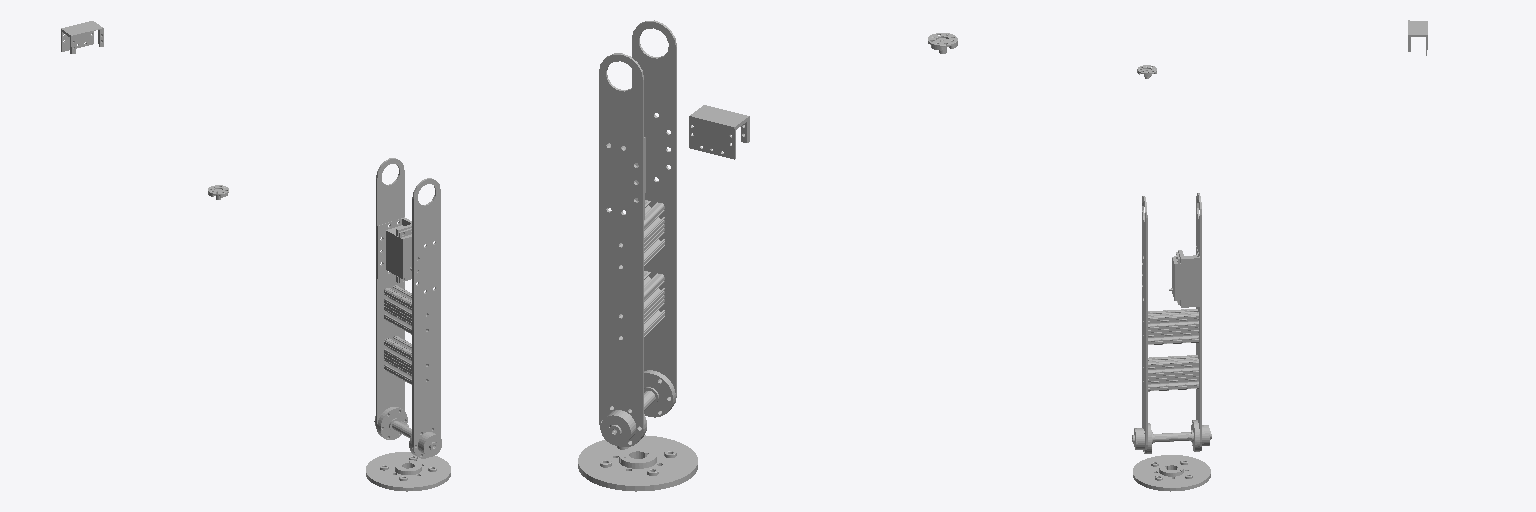
The robot description file, URDF, robot "arm_urdf_2":
<?xml version="1.0" encoding="utf-8"?>
<!-- This URDF was automatically created by SolidWorks to URDF Exporter! Originally created by [author] ([email redacted]) 
     Commit Version: 1.6.0-4-g7f85cfe  Build Version: 1.6.7995.38578
     For more information, please see http://wiki.ros.org/sw_urdf_exporter -->
<robot
  name="arm_urdf_2">

  <link name="world"/>

  <link
    name="base_link">
    <inertial>
      <origin
        xyz="-0.00066697 -7.2955E-05 0.11391"
        rpy="0 0 0" />
      <mass
        value="1.2708" />
      <inertia
        ixx="0.0025837"
        ixy="-1.2489E-07"
        ixz="-3.2925E-07"
        iyy="0.0025874"
        iyz="-4.1069E-08"
        izz="0.0043243" />
    </inertial>
    <visual>
      <origin
        xyz="0 0 0"
        rpy="0 0 0" />
      <geometry>
        <mesh
          filename="package://arm_urdf_2/meshes/base_link.STL" />
      </geometry>
      <material
        name="">
        <color
          rgba="0.75294 0.75294 0.75294 1" />
      </material>
    </visual>
    <collision>
      <origin
        xyz="0 0 0"
        rpy="0 0 0" />
      <geometry>
        <mesh
          filename="package://arm_urdf_2/meshes/base_link.STL" />
      </geometry>
    </collision>
  </link>

  <joint name="base_joint" type="fixed">
  	<parent link="world"/>
  	<child link="base_link"/>
  	<origin rpy="0 0 0" xyz="0.0 0.0 0.25"/>
  </joint>

  <link
    name="link_1">
    <inertial>
      <origin
        xyz="-1.3692E-05 -1.7969E-05 0.0089223"
        rpy="0 0 0" />
      <mass
        value="0.10142" />
      <inertia
        ixx="8.687E-05"
        ixy="8.9807E-08"
        ixz="-3.7136E-09"
        iyy="8.6652E-05"
        iyz="-4.8736E-09"
        izz="0.00017129" />
    </inertial>
    <visual>
      <origin
        xyz="0 0 0"
        rpy="0 0 0" />
      <geometry>
        <mesh
          filename="package://arm_urdf_2/meshes/link_1.STL" />
      </geometry>
      <material
        name="">
        <color
          rgba="0.75294 0.75294 0.75294 1" />
      </material>
    </visual>
    <collision>
      <origin
        xyz="0 0 0"
        rpy="0 0 0" />
      <geometry>
        <mesh
          filename="package://arm_urdf_2/meshes/link_1.STL" />
      </geometry>
    </collision>
  </link>
  <joint
    name="joint_1"
    type="revolute">
    <origin
      xyz="0 0 0.15678"
      rpy="0 0 0" />
    <parent
      link="base_link" />
    <child
      link="link_1" />
    <axis
      xyz="0 0 1" />
    <limit
      lower="-3.142"
      upper="3.142"
      effort="28.35"
      velocity="5.24" />
  </joint>
  <link
    name="link_2">
    <inertial>
      <origin
        xyz="0.001181 0.0061963 0.17391"
        rpy="0 0 0" />
      <mass
        value="0.39467" />
      <inertia
        ixx="0.0020154"
        ixy="5.8976E-06"
        ixz="-4.8166E-07"
        iyy="0.0019725"
        iyz="-1.0489E-07"
        izz="0.00014684" />
    </inertial>
    <visual>
      <origin
        xyz="0 0 0"
        rpy="0 0 0" />
      <geometry>
        <mesh
          filename="package://arm_urdf_2/meshes/link_2.STL" />
      </geometry>
      <material
        name="">
        <color
          rgba="0.75294 0.75294 0.75294 1" />
      </material>
    </visual>
    <collision>
      <origin
        xyz="0 0 0"
        rpy="0 0 0" />
      <geometry>
        <mesh
          filename="package://arm_urdf_2/meshes/link_2.STL" />
      </geometry>
    </collision>
  </link>
  <joint
    name="joint_2"
    type="revolute">
    <origin
      xyz="0.00010358 1.3092E-05 0.0737"
      rpy="0 0 0" />
    <parent
      link="link_1" />
    <child
      link="link_2" />
    <axis
      xyz="-0.12539 0.99211 0" />
    <limit
      lower="-1.57"
      upper="1.57"
      effort="28.35"
      velocity="5.24" />
  </joint>
  <link
    name="link_3">
    <inertial>
      <origin
        xyz="-0.11874 0.7146 0.38745"
        rpy="0 0 0" />
      <mass
        value="0.25926" />
      <inertia
        ixx="8.8206E-05"
        ixy="1.9129E-08"
        ixz="0.00014725"
        iyy="0.0012488"
        iyz="5.7329E-08"
        izz="0.0012348" />
    </inertial>
    <visual>
      <origin
        xyz="0 0 0"
        rpy="0 0 0" />
      <geometry>
        <mesh
          filename="package://arm_urdf_2/meshes/link_3.STL" />
      </geometry>
      <material
        name="">
        <color
          rgba="0.75294 0.75294 0.75294 1" />
      </material>
    </visual>
    <collision>
      <origin
        xyz="0 0 0"
        rpy="0 0 0" />
      <geometry>
        <mesh
          filename="package://arm_urdf_2/meshes/link_3.STL" />
      </geometry>
    </collision>
  </link>
  <joint
    name="joint_3"
    type="revolute">
    <origin
      xyz="0.0041405 0.37677 -0.30834"
      rpy="1.5708 0 0" />
    <parent
      link="link_2" />
    <child
      link="link_3" />
    <axis
      xyz="0 0 0" />
    <limit
      lower="-1"
      upper="3.14"
      effort="7.85"
      velocity="6.54" />
  </joint>
  <link
    name="link_4">
    <inertial>
      <origin
        xyz="-0.35186 0.7436 0.41987"
        rpy="0 0 0" />
      <mass
        value="0.18732" />
      <inertia
        ixx="0.00013117"
        ixy="4.7999E-09"
        ixz="-3.8256E-06"
        iyy="0.00013344"
        iyz="1.726E-08"
        izz="0.00010591" />
    </inertial>
    <visual>
      <origin
        xyz="0 0 0"
        rpy="0 0 0" />
      <geometry>
        <mesh
          filename="package://arm_urdf_2/meshes/link_4.STL" />
      </geometry>
      <material
        name="">
        <color
          rgba="0.75294 0.75294 0.75294 1" />
      </material>
    </visual>
    <collision>
      <origin
        xyz="0 0 0"
        rpy="0 0 0" />
      <geometry>
        <mesh
          filename="package://arm_urdf_2/meshes/link_4.STL" />
      </geometry>
    </collision>
  </link>
  <joint
    name="joint_4"
    type="revolute">
    <origin
      xyz="0 0 0"
      rpy="0 0 0" />
    <parent
      link="link_3" />
    <child
      link="link_4" />
    <axis
      xyz="0 0 0" />
    <limit
      lower="-3.14"
      upper="0"
      effort="2.45"
      velocity="8.08" />
  </joint>
  <link
    name="link_5">
    <inertial>
      <origin
        xyz="-0.35255 0.79952 0.41649"
        rpy="0 0 0" />
      <mass
        value="0.0035244" />
      <inertia
        ixx="2.3046E-07"
        ixy="4.5068E-13"
        ixz="4.8524E-12"
        iyy="3.9951E-07"
        iyz="5.0116E-13"
        izz="2.3045E-07" />
    </inertial>
    <visual>
      <origin
        xyz="0 0 0"
        rpy="0 0 0" />
      <geometry>
        <mesh
          filename="package://arm_urdf_2/meshes/link_5.STL" />
      </geometry>
      <material
        name="">
        <color
          rgba="0.75294 0.75294 0.75294 1" />
      </material>
    </visual>
    <collision>
      <origin
        xyz="0 0 0"
        rpy="0 0 0" />
      <geometry>
        <mesh
          filename="package://arm_urdf_2/meshes/link_5.STL" />
      </geometry>
    </collision>
  </link>
  <joint
    name="joint_5"
    type="revolute">
    <origin
      xyz="0 0 0"
      rpy="0 0 0" />
    <parent
      link="link_4" />
    <child
      link="link_5" />
    <axis
      xyz="0 0 0" />
    <limit
      lower="-3.14"
      upper="3.14"
      effort="2.45"
      velocity="8.08" />
  </joint>

  <transmission name="link_1_trans">
    <type>transmission_interface/SimpleTransmission</type>
      <joint name="joint_1">
        <hardwareInterface>hardware_interface/PositionJointInterface</hardwareInterface>
      </joint>
      <actuator name="link_1_motor">
  	<hardwareInterface>hardware_interface/PositionJointInterface</hardwareInterface>
  	<mechanicalReduction>1</mechanicalReduction>
      </actuator>
  </transmission>
  
  <transmission name="link_2_trans">
    <type>transmission_interface/SimpleTransmission</type>
    <joint name="joint_2">
      <hardwareInterface>hardware_interface/PositionJointInterface</hardwareInterface>
    </joint>
    <actuator name="link_2_motor">
      <hardwareInterface>hardware_interface/PositionJointInterface</hardwareInterface>
      <mechanicalReduction>1</mechanicalReduction>
    </actuator>
  </transmission>
  
  <transmission name="link_3_trans">
    <type>transmission_interface/SimpleTransmission</type>
    <joint name="joint_3">
      <hardwareInterface>hardware_interface/PositionJointInterface</hardwareInterface>
    </joint>
    <actuator name="link_3_motor">
      <hardwareInterface>hardware_interface/PositionJointInterface</hardwareInterface>
      <mechanicalReduction>1</mechanicalReduction>
    </actuator>
  </transmission>
  
  <transmission name="link_4_trans">
    <type>transmission_interface/SimpleTransmission</type>
    <joint name="joint_4">
      <hardwareInterface>hardware_interface/PositionJointInterface</hardwareInterface>
    </joint>
    <actuator name="link_4_motor">
      <hardwareInterface>hardware_interface/PositionJointInterface</hardwareInterface>
      <mechanicalReduction>1</mechanicalReduction>
    </actuator>
  </transmission>
  
  <transmission name="link_5_trans">
    <type>transmission_interface/SimpleTransmission</type>
    <joint name="joint_5">
      <hardwareInterface>hardware_interface/PositionJointInterface</hardwareInterface>
    </joint>
    <actuator name="link_5_motor">
      <hardwareInterface>hardware_interface/PositionJointInterface</hardwareInterface>
      <mechanicalReduction>1</mechanicalReduction>
    </actuator>
  </transmission>
  
  <gazebo>
    <plugin name="control" filename="libgazebo_ros_control.so">
      <robotNamespace>/</robotNamespace>
    </plugin>
  </gazebo>
  
  <gazebo reference="link_1">
    <selfCollide>true</selfCollide>
  </gazebo>
  
  <gazebo reference="link_2">
    <selfCollide>true</selfCollide>
  </gazebo>
  
  <gazebo reference="link_3">
    <selfCollide>true</selfCollide>
  </gazebo>
  
  <gazebo reference="link_4">
    <selfCollide>true</selfCollide>
  </gazebo>
  
  <gazebo reference="link_5">
    <selfCollide>true</selfCollide>
  </gazebo>

</robot>

--- What the picture shows (computed from the rendered views, not written in the file) ---
Views: 3 orthographic renders of the robot side by side, from view 1: azimuth 30°, elevation 25°; view 2: azimuth 150°, elevation 25°; view 3: azimuth 270°, elevation 25°.
Model arm_urdf_2 with 7 links and 6 joints (5 revolute, 1 fixed), rooted at world, posed all joints at 0.
Links seen in each view (by area): view 1: link_2, link_1, link_3; view 2: link_2, link_1, link_3; view 3: link_2, link_1.
Link boxes in pixels (x1,y1,x2,y2): link_2: (374,158,441,458); link_1: (366,452,450,491); link_3: (61,21,103,53); link_2: (599,20,676,446); link_1: (578,435,697,491); link_3: (689,105,749,159); link_2: (1132,193,1211,453); link_1: (1133,455,1210,491).
Bounding box of the posed robot: 0.4277 × 0.4787 × 0.6521 m (x, y, z).
4 mesh visuals loaded from 6 distinct referenced files (4 binary STL); not drawn: 1 (reference not matched to a file when rendering), 1 (file found but could not be loaded).